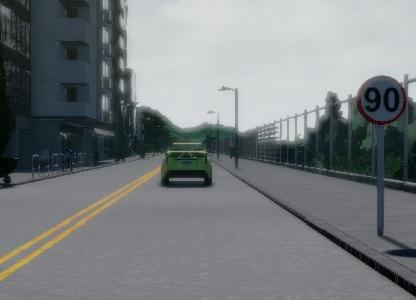Speed_90: (355, 72, 408, 128)
